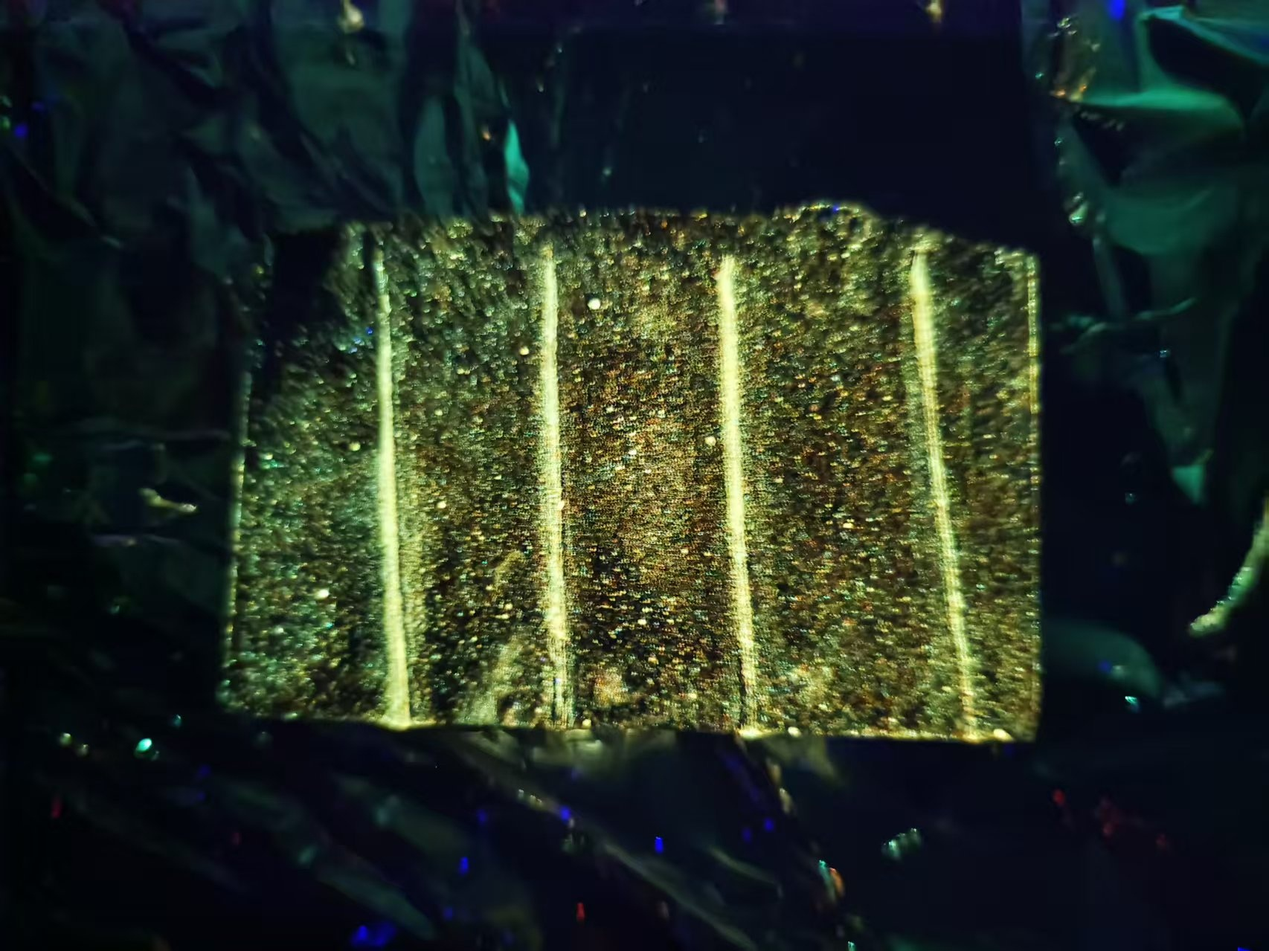Fissure: (884, 238, 1006, 740), (506, 234, 611, 737), (341, 236, 440, 730), (697, 246, 775, 722)
